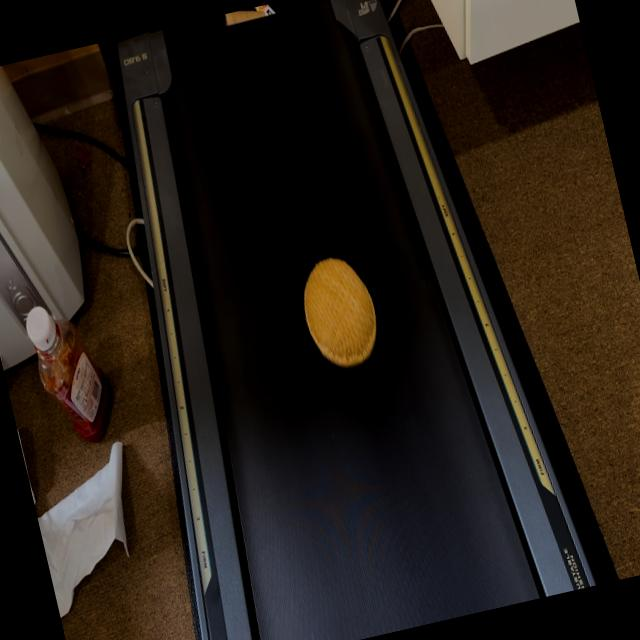Trash: (294, 249, 386, 376)
